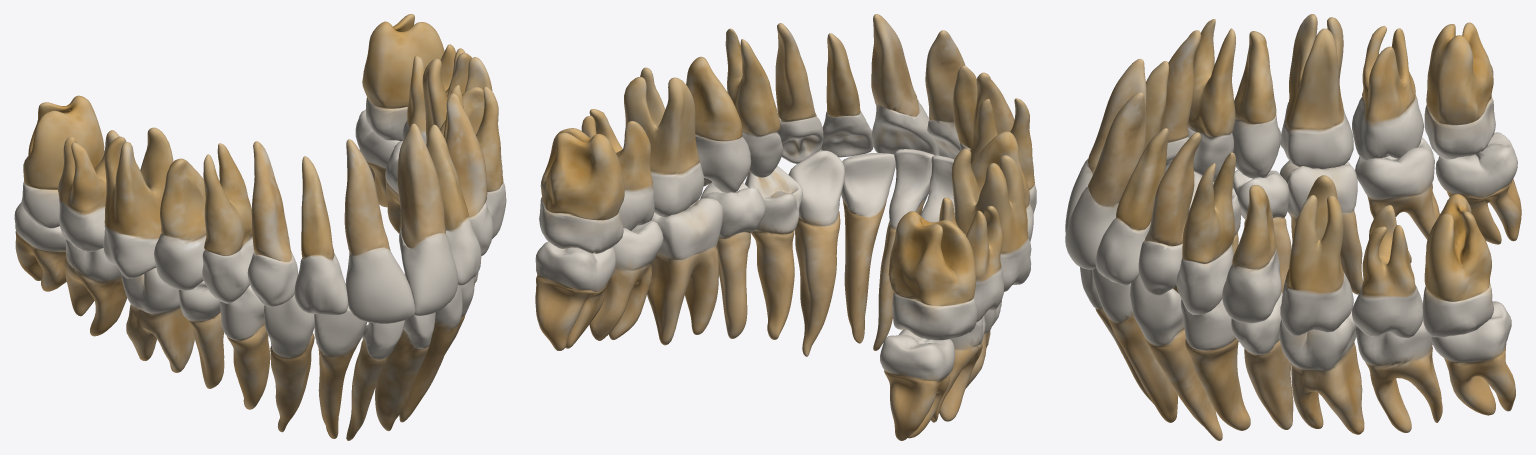
File: Teeth.fbx
3 renders of one model, left to right at view 1: azimuth 30°, elevation 25°; view 2: azimuth 150°, elevation 25°; view 3: azimuth 270°, elevation 25°, orthographic. The views are drawn at different scales.
Visible parts, largest first — view 1: Maxillary_teeth, Mandibular_teeth; view 2: Maxillary_teeth, Mandibular_teeth; view 3: Maxillary_teeth, Mandibular_teeth.
Part boxes in pixels (x1,y1,x2,y2): Maxillary_teeth: [21, 14, 506, 323]; Mandibular_teeth: [14, 109, 478, 440]; Maxillary_teeth: [539, 14, 1036, 340]; Mandibular_teeth: [535, 149, 1001, 440]; Maxillary_teeth: [1065, 14, 1495, 337]; Mandibular_teeth: [1080, 132, 1521, 440].
Bounding box in the file's own units: 2.9 × 2.07 × 2.56.
